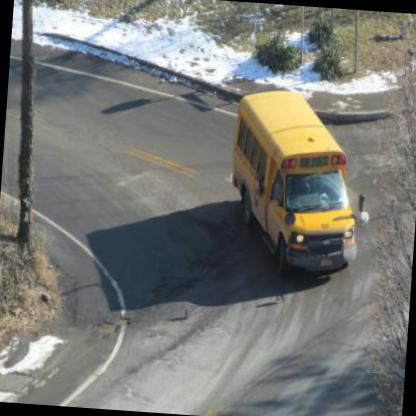bus: (221, 84, 378, 282)
